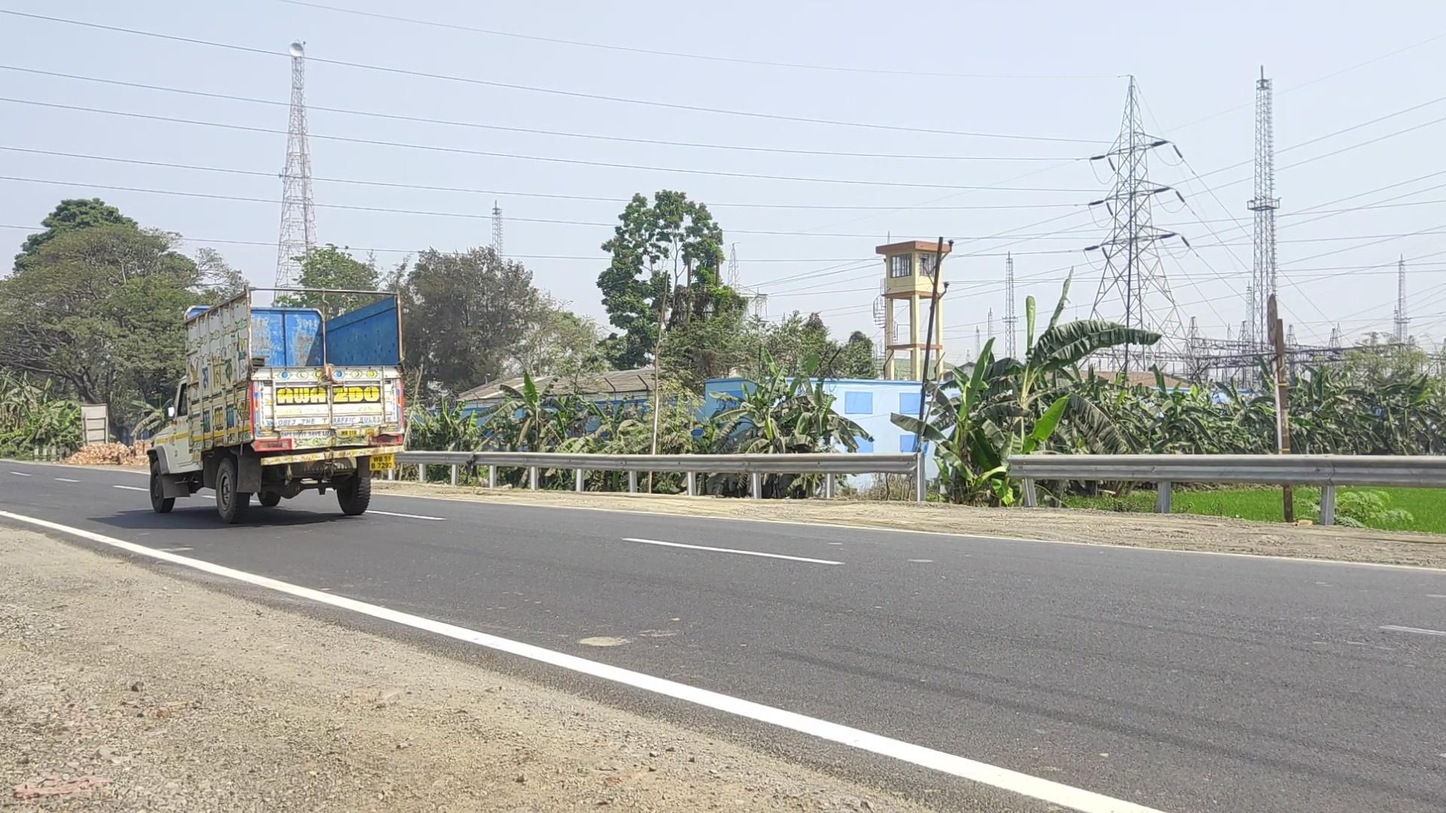van: (146, 285, 406, 522)
